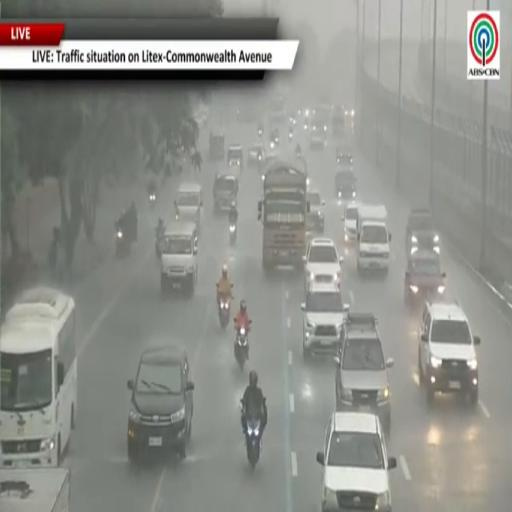bus: (0, 287, 77, 468)
car: (316, 412, 396, 511), (128, 346, 194, 461), (336, 313, 393, 433), (418, 302, 480, 405), (301, 283, 349, 359), (161, 221, 197, 295), (405, 250, 446, 305), (304, 238, 344, 287), (406, 208, 440, 255), (176, 183, 202, 234), (213, 168, 238, 212), (335, 170, 356, 205), (307, 190, 324, 233), (342, 202, 357, 246), (248, 142, 265, 167), (209, 133, 224, 161), (310, 125, 326, 150), (332, 106, 345, 136), (228, 144, 243, 169), (337, 149, 353, 171), (270, 128, 279, 149)
motorcycle: (234, 320, 251, 370), (246, 415, 261, 469), (217, 285, 232, 328), (116, 222, 130, 258), (219, 298, 230, 329), (155, 228, 164, 258), (230, 222, 237, 245), (149, 192, 156, 207), (258, 128, 263, 137), (289, 132, 293, 140)
truck: (258, 158, 309, 270), (0, 469, 70, 511), (357, 205, 391, 271)
